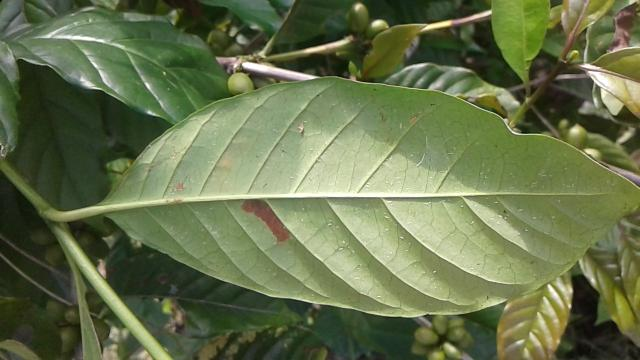red_spider_mite: (92, 84, 638, 316)
